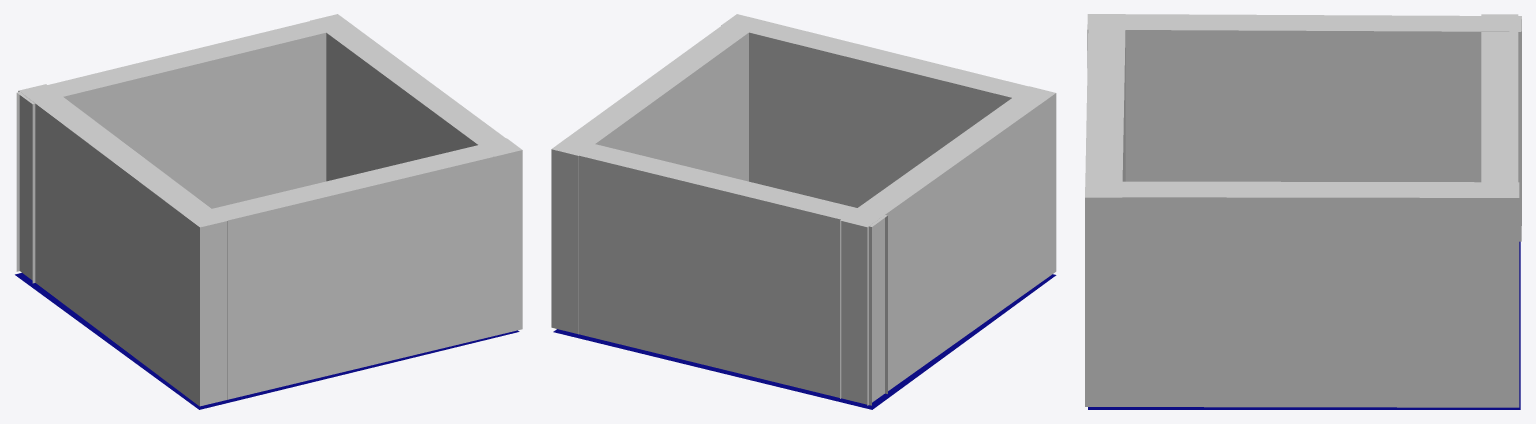
File: Level_FIXED.fbx
The picture shows the model from 3 angles, left to right: view 1: azimuth 30°, elevation 25°; view 2: azimuth 150°, elevation 25°; view 3: azimuth 270°, elevation 25°; orthographic projection. The views are drawn at different scales.
Parts seen in each view (by area): view 1: level; view 2: level; view 3: level.
Part boxes in pixels (left/top/right/bottom): level: left=15, top=14, right=522, bottom=409; level: left=551, top=14, right=1056, bottom=409; level: left=1085, top=14, right=1521, bottom=409.
Bounding box in the file's own units: 677 × 373 × 679.
